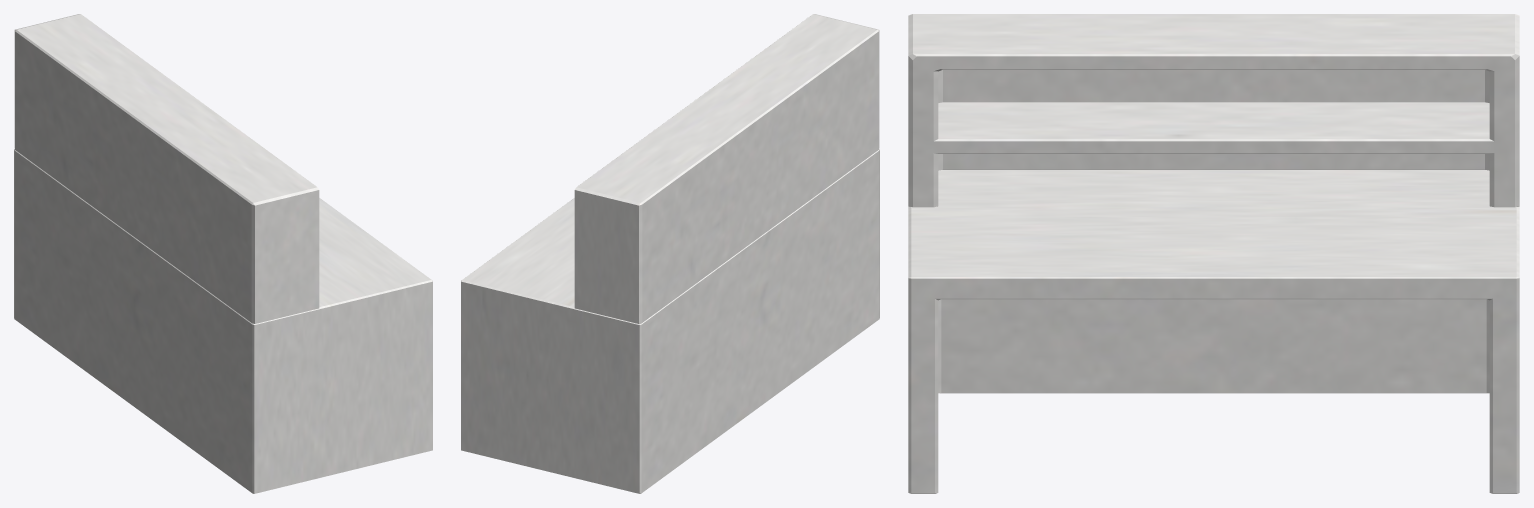
The model's file is Table.fbx.
3 renders of one model, left to right at view 1: azimuth 30°, elevation 25°; view 2: azimuth 150°, elevation 25°; view 3: azimuth 270°, elevation 25°, orthographic. The views are drawn at different scales.
Parts seen in each view (by area): view 1: Table; view 2: Table; view 3: Table.
Boxes of the visible parts, x1=… form: Table: x1=14, y1=14, x2=432, y2=493; Table: x1=461, y1=14, x2=879, y2=493; Table: x1=908, y1=14, x2=1519, y2=493.
Size of the model in its own units: 130 by 200 by 300.
Materials: 1 (1 with a texture image).
